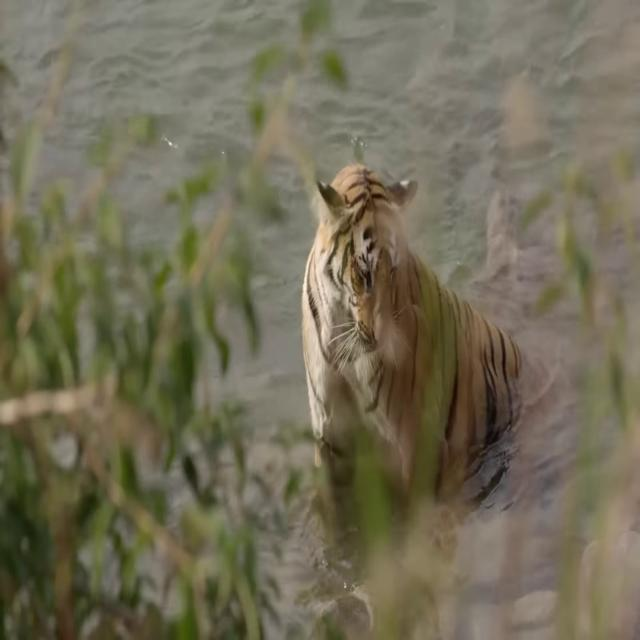tiger: (302, 166, 548, 527)
